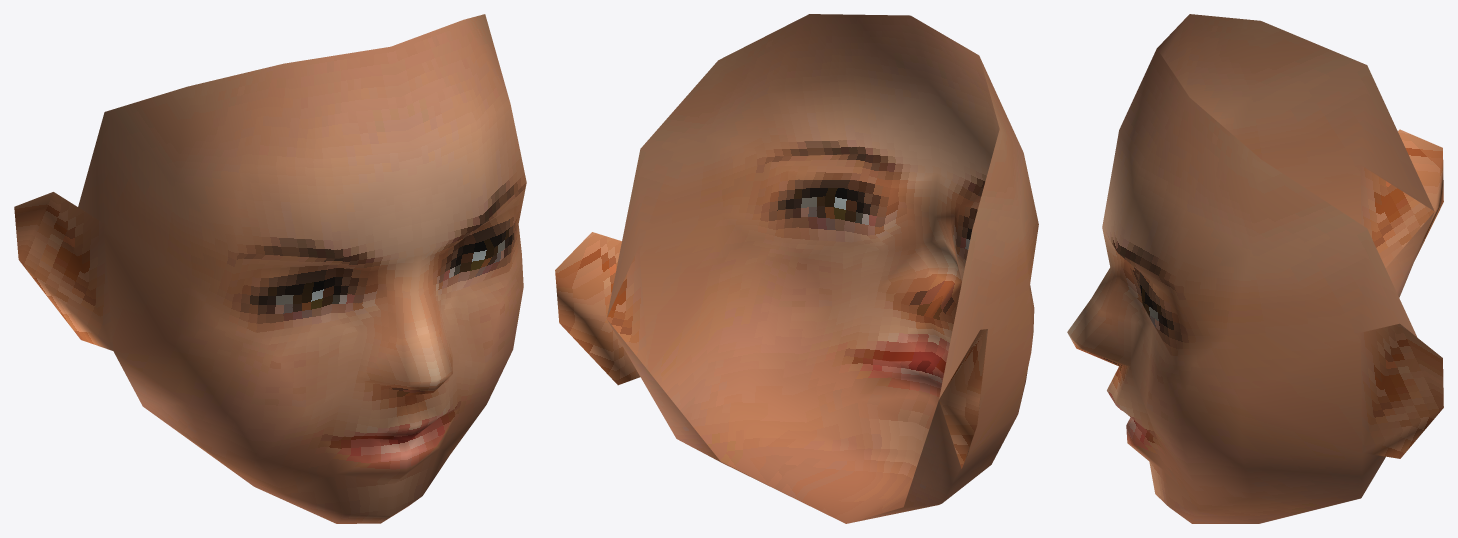
3 views of the same model, side by side, from view 1: azimuth 30°, elevation 25°; view 2: azimuth 150°, elevation 25°; view 3: azimuth 270°, elevation 25° (orthographic). The views are drawn at different scales.
Parts seen in each view (by area): view 1: mesh00; view 2: mesh00; view 3: mesh00.
Boxes of the visible parts, x1,y1,x2,y2 form: mesh00: (14, 14, 526, 523); mesh00: (555, 14, 1038, 523); mesh00: (1067, 14, 1443, 523).
Bounding box in the file's own units: 19.4 × 20.17 × 14.69.
1 material, 1 textured.
